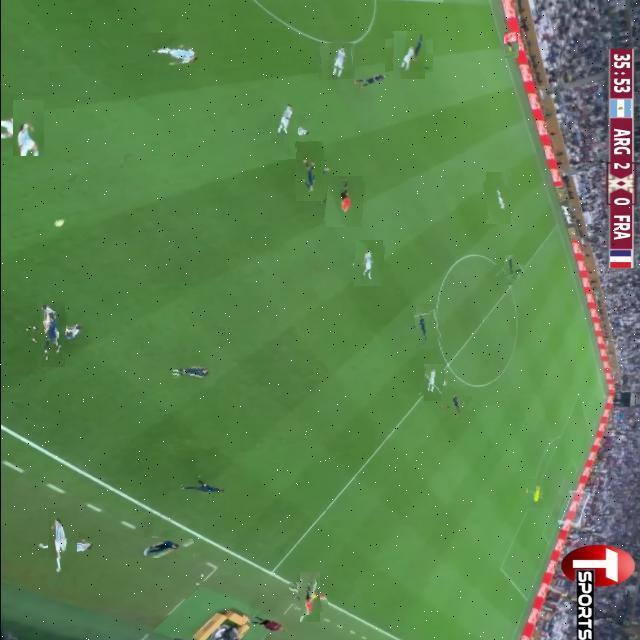ball: (44, 217, 68, 229)
goalkeeper: (118, 537, 192, 560), (241, 615, 299, 638), (523, 482, 545, 505)
player: (137, 29, 223, 72), (34, 521, 91, 577), (26, 310, 76, 359), (261, 104, 308, 152), (286, 149, 332, 194), (6, 106, 50, 150), (158, 356, 218, 386), (477, 177, 519, 219), (388, 35, 429, 76), (349, 243, 388, 283), (319, 44, 354, 80), (407, 310, 442, 345), (418, 367, 449, 398), (442, 391, 468, 416), (498, 260, 520, 282)
referee: (320, 178, 367, 225), (290, 578, 328, 616), (500, 35, 521, 56)
